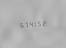five: (38, 19, 42, 27)
four: (28, 20, 32, 28)
one: (33, 20, 37, 27)
seven: (22, 20, 26, 28)
six: (17, 21, 21, 28)
two: (43, 19, 47, 26)
